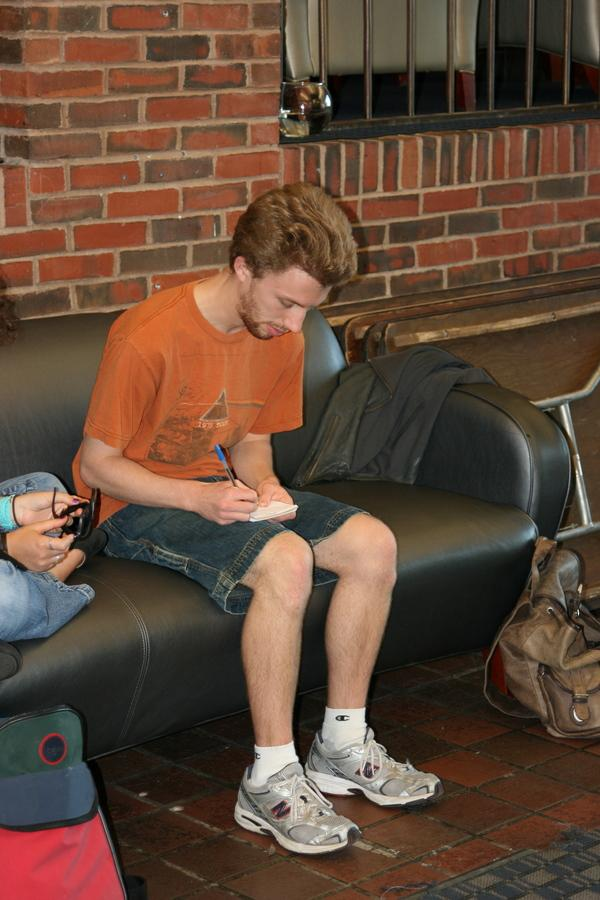person: (73, 183, 445, 854)
